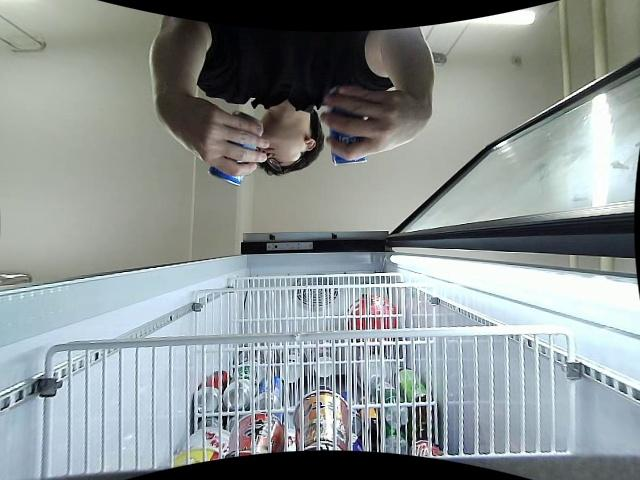00_hand: (159, 94, 270, 176), (319, 86, 425, 159)
15_letsbe: (207, 111, 259, 185), (326, 87, 367, 167)
